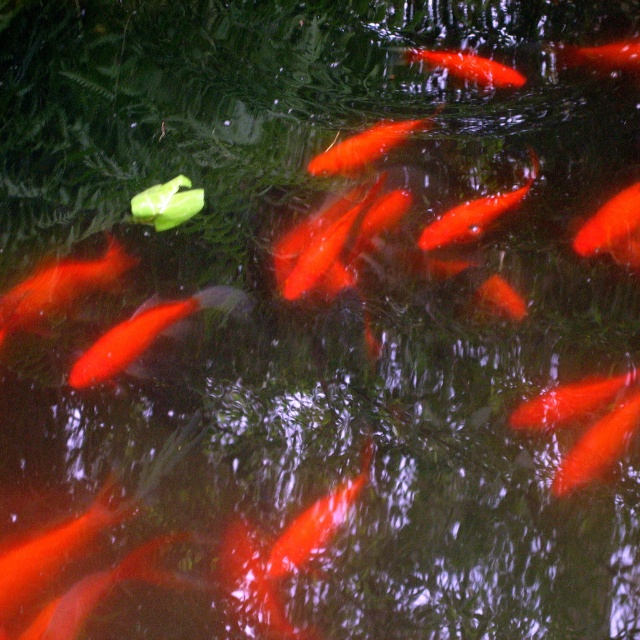Fish: (1, 25, 639, 640)
